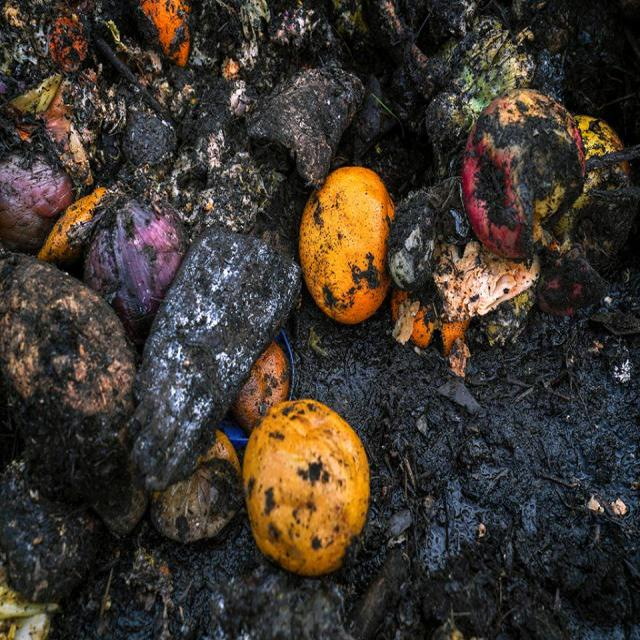food_waste: (30, 59, 585, 513), (259, 125, 406, 582), (438, 82, 631, 257)
